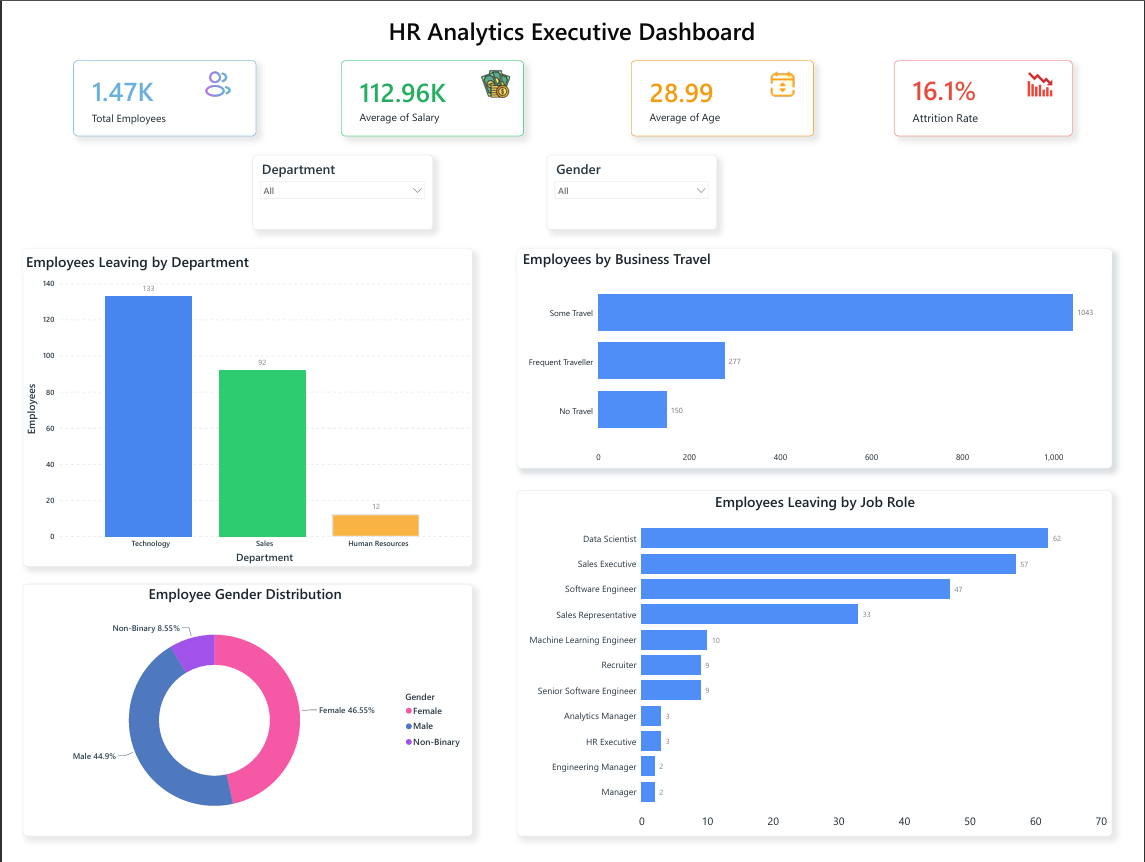

The dashboard page shown, as its layout file describes it:
{"tool":"powerbi","page":{"name":"Executive Dashboard","canvas":[2000,1500],"ordinal":0},"visuals":[{"type":"cardVisual","title":"Average Salary","fields":{"Data":["Avg(Employee.Salary)"]},"box":[584,88,328,136],"z":0},{"type":"cardVisual","title":"Average Age","fields":{"Data":["Avg(Employee.Age)"]},"box":[1104,88,328,136],"z":1000},{"type":"clusteredColumnChart","title":"Employees Leaving by Department","fields":{"Category":["Employee.Department"],"Y":["CountNonNull(Employee.EmployeeID)","select"]},"box":[12.7,425.4,807.6,570.7],"z":2000},{"type":"donutChart","title":"Employee Gender Distribution","fields":{"Category":["Employee.Gender"],"Y":["CountNonNull(Employee.EmployeeID)"]},"box":[12.7,1026.7,807.6,453.5],"z":3000},{"type":"barChart","title":"Employees by Business Travel","fields":{"Category":["Employee.BusinessTravel"],"Y":["CountNonNull(Employee.EmployeeID)"]},"box":[899.3,425.4,1067.4,394.9],"z":4000},{"type":"cardVisual","fields":{"Data":["Employee.Attrition Rate"]},"box":[1576,88,320,136],"z":5000},{"type":"cardVisual","fields":{"Data":["CountNonNull(Employee.EmployeeID)"]},"box":[104,88,328,136],"z":6000},{"type":"image","box":[329,103.8,68.4,53],"z":7000},{"type":"image","box":[1795,103.8,83.9,53],"z":8000},{"type":"image","box":[821.3,103.8,79.5,53],"z":9000},{"type":"image","box":[1336,104,80,56],"z":10000},{"type":"barChart","title":"Employees Leaving by Job Role","fields":{"Category":["Employee.JobRole"],"Y":["CountNonNull(Employee.EmployeeID)"]},"box":[899.3,858.5,1067.4,621.6],"z":11000},{"type":"textbox","box":[664,0,680,72],"z":12000},{"type":"slicer","title":"Department","fields":{"Values":["Employee.Department"]},"box":[425.4,257.3,323.5,135],"z":13000},{"type":"slicer","fields":{"Values":["Employee.Gender"]},"box":[952.8,257.3,305.7,135],"z":14000}]}

Visuals, with their boxes in screenshot pixels (x1, y1, x2, y2), scaled from the page's 2000x1500 canvas onto the 1145x862 screenshot:
"Average Salary" cardVisual: box=[334, 51, 522, 129]
"Average Age" cardVisual: box=[632, 51, 820, 129]
"Employees Leaving by Department" clusteredColumnChart: box=[7, 244, 470, 572]
"Employee Gender Distribution" donutChart: box=[7, 590, 470, 851]
"Employees by Business Travel" barChart: box=[515, 244, 1126, 471]
cardVisual - Employee.Attrition Rate: box=[902, 51, 1085, 129]
cardVisual - CountNonNull(Employee.EmployeeID): box=[60, 51, 247, 129]
image: box=[188, 60, 228, 90]
image: box=[1028, 60, 1076, 90]
image: box=[470, 60, 516, 90]
image: box=[765, 60, 811, 92]
"Employees Leaving by Job Role" barChart: box=[515, 493, 1126, 851]
textbox: box=[380, 0, 769, 41]
"Department" slicer: box=[244, 148, 429, 225]
slicer - Employee.Gender: box=[545, 148, 720, 225]
